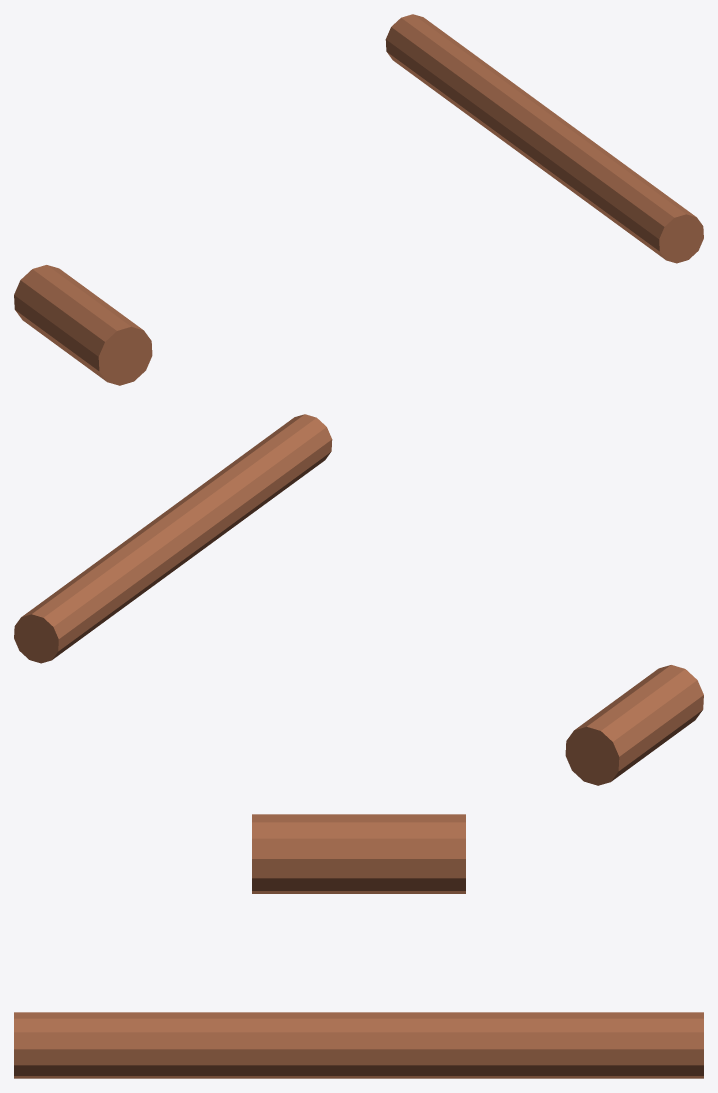
The model's file is crowbar_01.glb.
3 views of the same model, one above another, from view 1: azimuth 30°, elevation 25°; view 2: azimuth 150°, elevation 25°; view 3: azimuth 270°, elevation 25° (orthographic). The views are drawn at different scales.
Visible parts, largest first — view 1: world; view 2: world; view 3: world.
Boxes of the visible parts, x1,y1,x2,y2 form: world: [14, 14, 703, 385]; world: [14, 414, 703, 785]; world: [14, 814, 703, 1078].
Bounding box in the file's own units: 1.67 × 0.3923 × 1.55.
